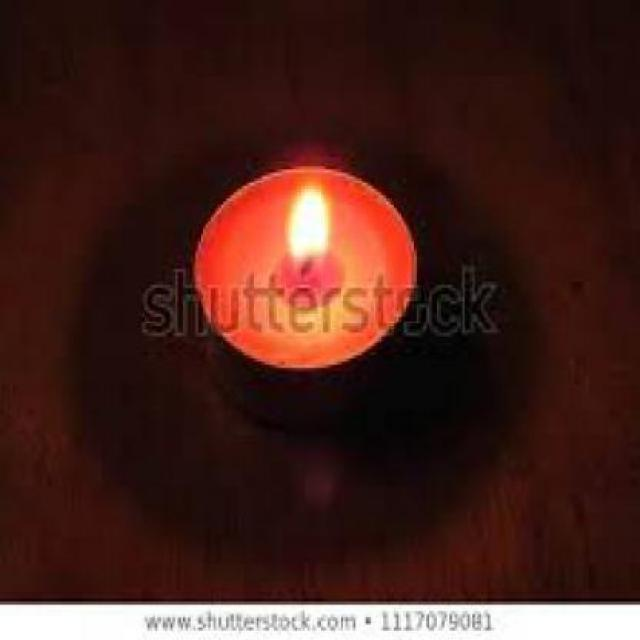fire: (272, 183, 331, 269)
